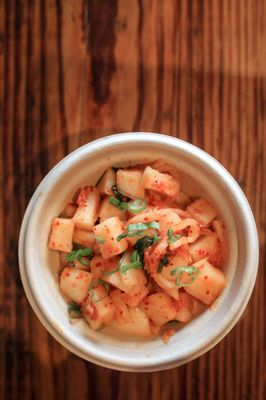sushi: (18, 137, 261, 371)
